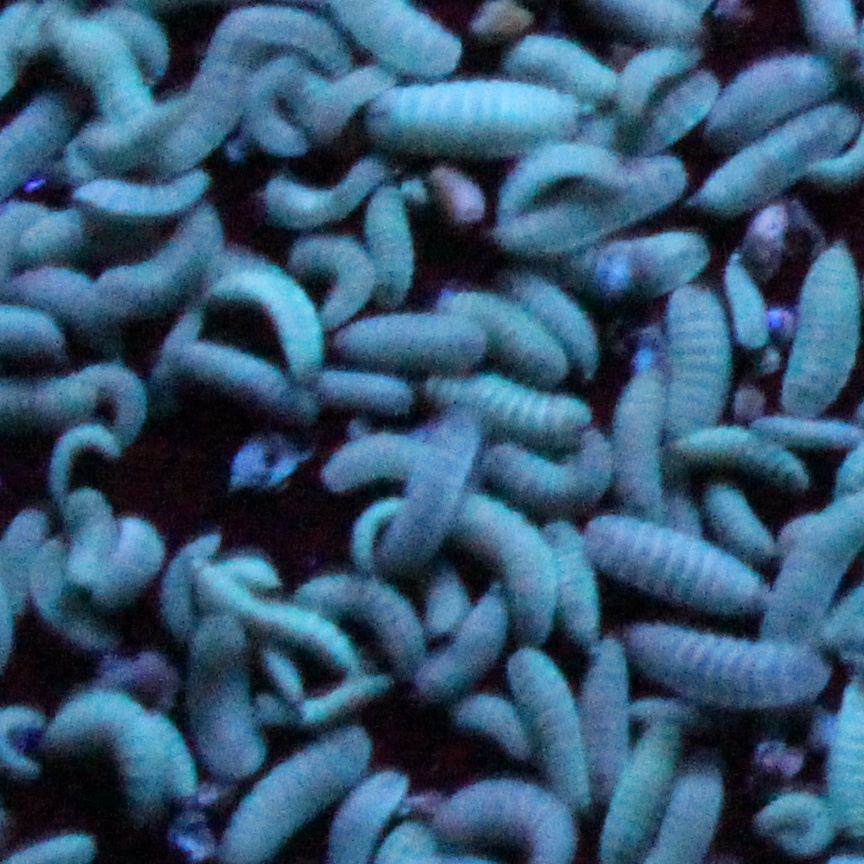larve: (588, 511, 759, 611), (192, 561, 354, 664), (701, 112, 858, 212), (496, 166, 677, 252), (635, 626, 827, 703), (458, 483, 551, 641), (386, 410, 481, 562), (54, 684, 158, 819), (366, 79, 577, 144), (780, 246, 859, 418), (295, 575, 418, 672), (707, 50, 838, 141), (177, 337, 311, 424), (188, 615, 261, 770), (48, 24, 163, 116), (511, 649, 586, 788), (217, 274, 322, 373), (425, 378, 592, 439), (422, 577, 504, 695), (664, 429, 808, 495), (495, 430, 610, 510), (106, 218, 218, 299), (449, 297, 563, 376), (208, 7, 344, 71), (665, 291, 727, 431), (547, 232, 707, 286), (327, 316, 486, 370), (35, 534, 103, 650), (77, 99, 190, 168), (580, 642, 628, 799), (161, 64, 233, 168), (503, 152, 627, 211), (284, 236, 374, 317), (615, 372, 661, 519), (513, 275, 591, 360), (79, 164, 217, 212), (247, 64, 316, 155), (308, 63, 396, 134), (269, 166, 371, 226), (254, 678, 388, 723), (611, 52, 696, 122), (647, 65, 713, 152), (553, 517, 597, 644), (512, 45, 614, 99), (101, 517, 162, 604), (79, 364, 144, 445), (12, 264, 109, 318), (323, 436, 423, 488), (712, 260, 768, 352), (372, 180, 411, 308), (16, 207, 105, 263), (161, 533, 213, 626), (754, 790, 830, 852), (149, 313, 207, 392), (455, 690, 525, 755), (50, 426, 113, 496), (62, 492, 104, 596), (709, 490, 768, 561), (150, 710, 195, 803), (105, 10, 165, 73), (305, 376, 416, 408), (10, 503, 41, 614), (262, 646, 303, 706), (430, 576, 468, 640), (219, 552, 277, 587)
